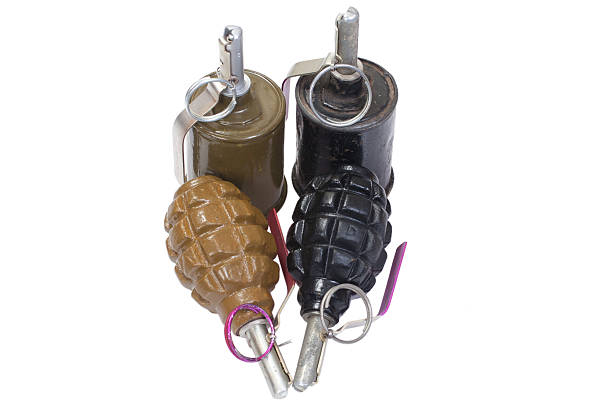e1: (170, 179, 292, 388), (294, 167, 407, 381)
